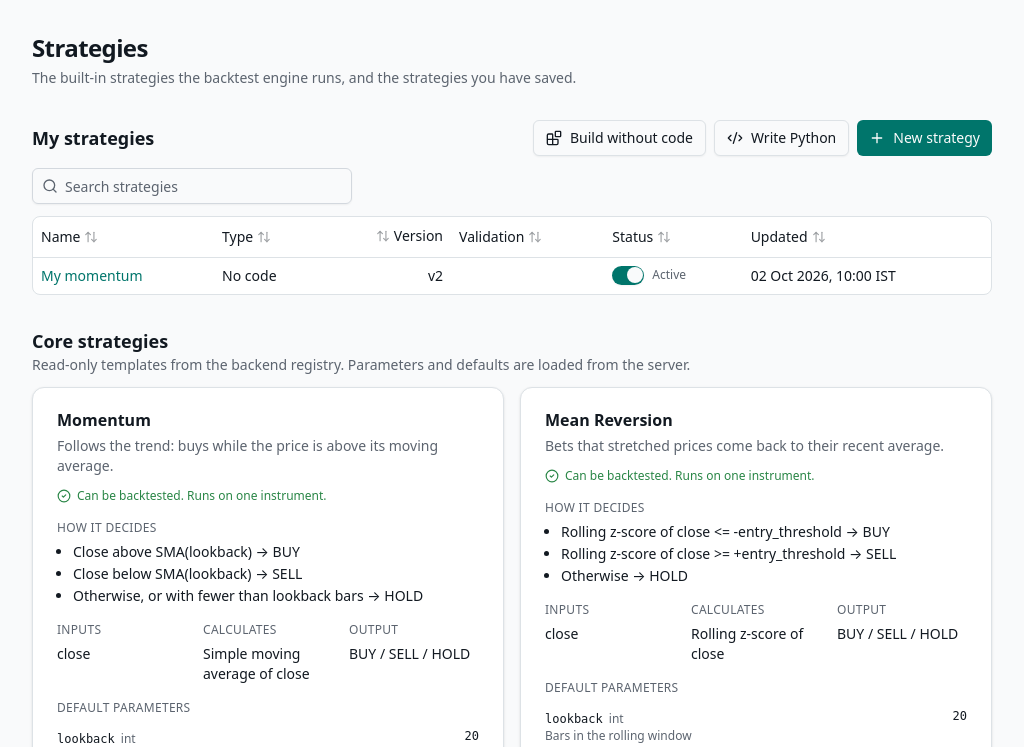
Test: StrategiesPage - my strategies › toggling sends only is_active and refreshes the list from the server
This screenshot has width=1024, height=747.
What coordinates should you click on to do the following:
click the switch named "Active: My momentum"
I would click on:
 (628, 276)
Its box is [612,266,644,285].
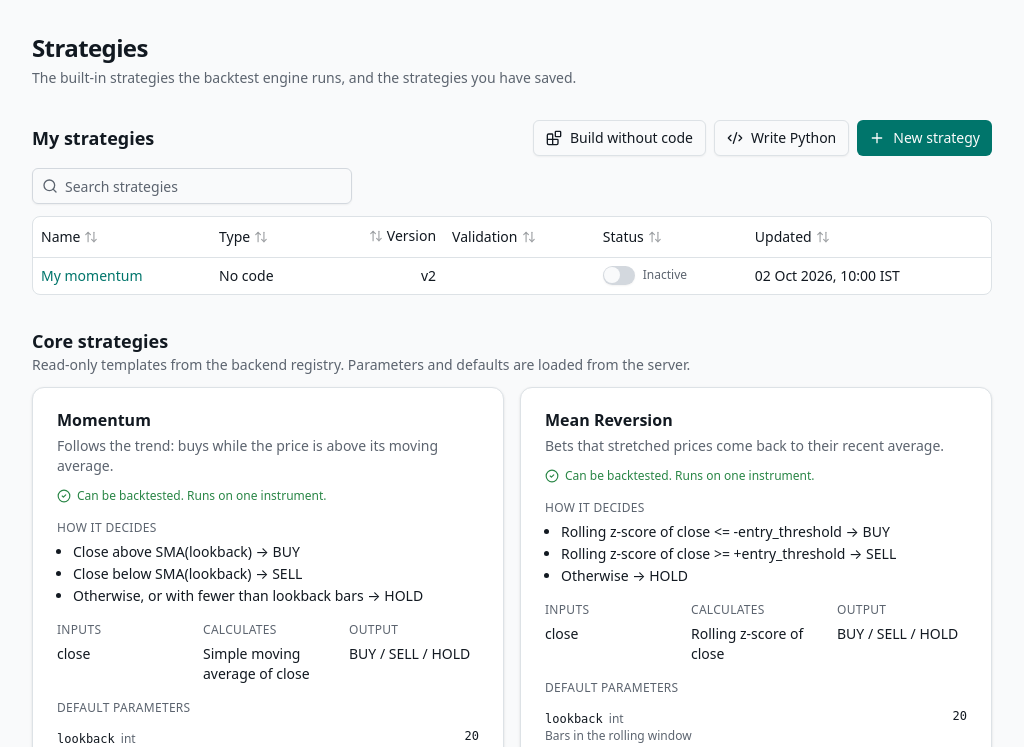
Result: the switch named "Active: My momentum" is not checked at [603,266,635,285]
